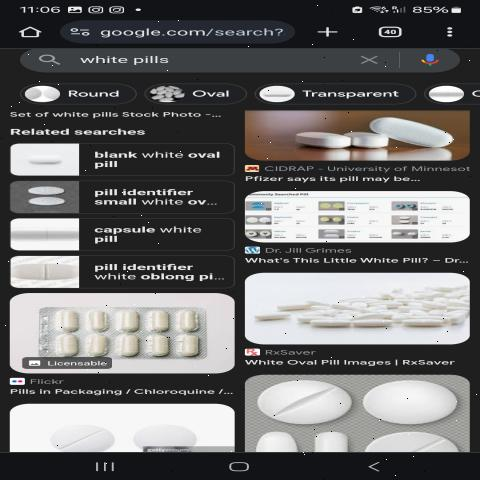Pill: (253, 374, 362, 428), (354, 380, 480, 426), (366, 114, 470, 152), (46, 422, 125, 453), (286, 122, 354, 154), (258, 296, 338, 314), (46, 330, 84, 362), (22, 146, 69, 170), (171, 332, 207, 359), (402, 313, 458, 330), (31, 192, 73, 210), (24, 184, 76, 198)
